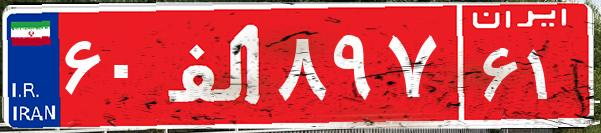0: (110, 28, 158, 105)
1: (525, 38, 570, 115)
6: (57, 26, 110, 107), (475, 38, 525, 113)
7: (385, 28, 445, 110)
8: (273, 28, 330, 110)
9: (330, 28, 385, 110)
الف: (158, 15, 273, 115)
